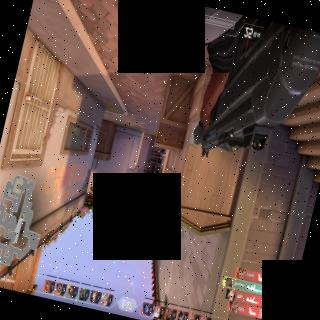ENEMY-BODY: (156, 148, 164, 160)
ENEMY-HEAD: (158, 155, 162, 160)
